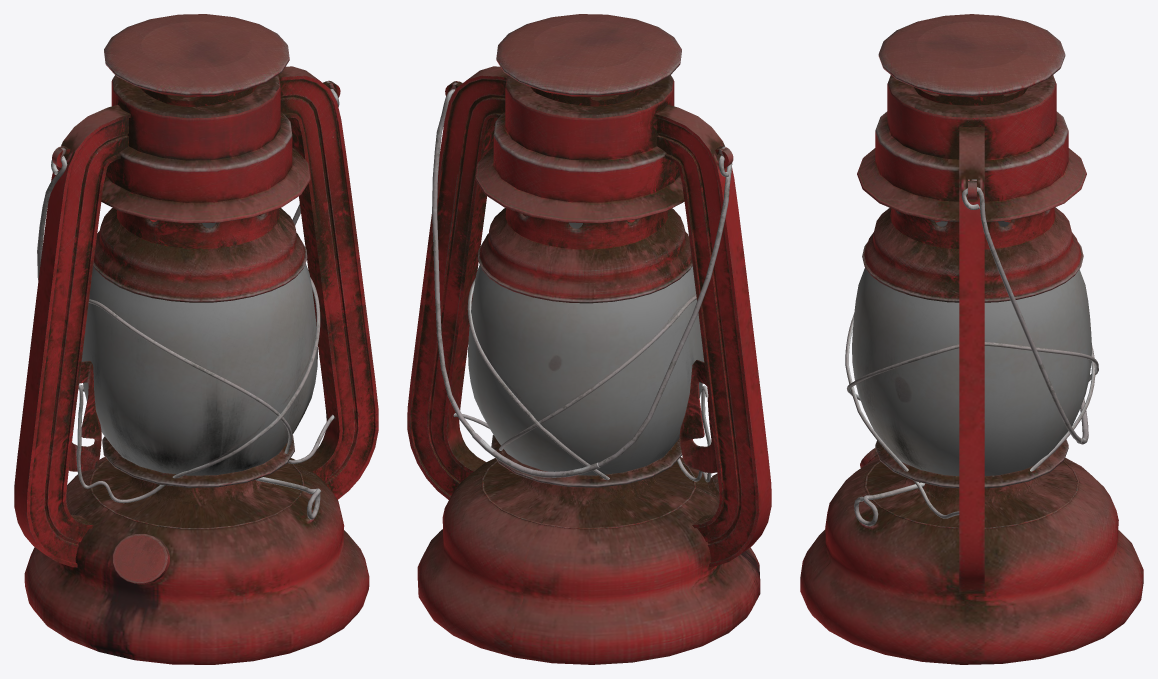
Rendered from lantern_fbx.fbx.
3 renders of one model, left to right at view 1: azimuth 30°, elevation 25°; view 2: azimuth 150°, elevation 25°; view 3: azimuth 270°, elevation 25°, orthographic.
Visible parts, largest first — view 1: Default; view 2: Default; view 3: Default.
Part boxes in pixels (bbox=[...]): Default: bbox=[14, 14, 378, 664]; Default: bbox=[407, 14, 771, 664]; Default: bbox=[800, 14, 1143, 664].
Size of the model in its own units: 59.83 by 89.3 by 50.64.
Materials: 2 (2 with a texture image).
